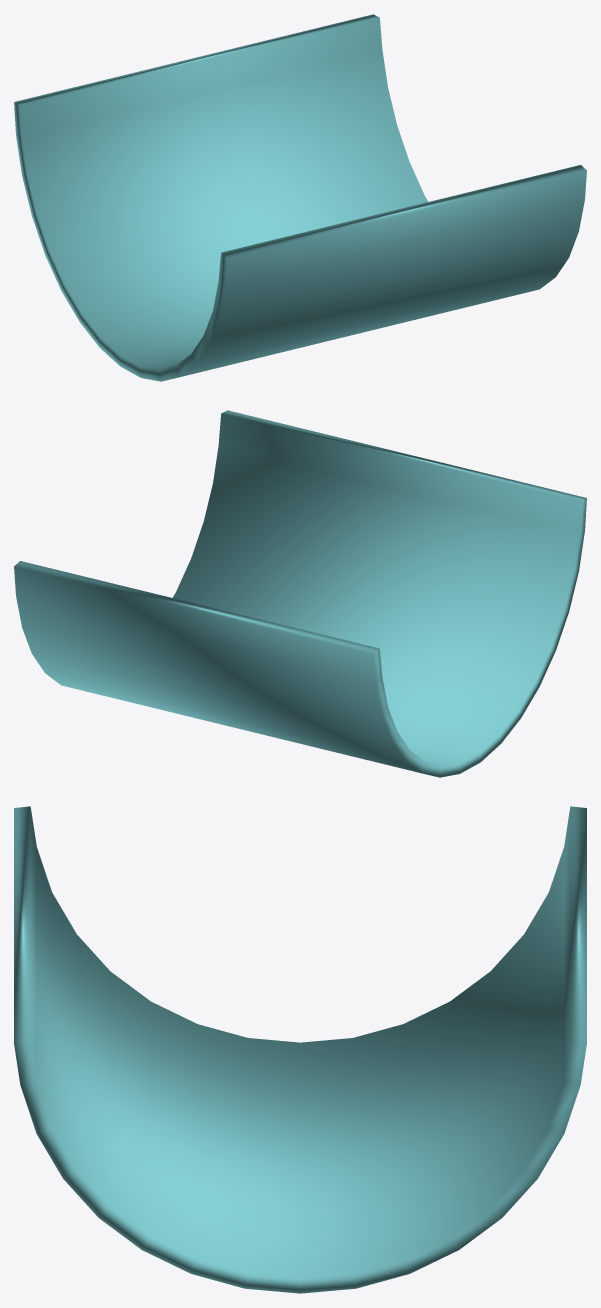
File: BasicSlideMeshForCollider.fbx
The picture shows the model from 3 angles, top to bottom: view 1: azimuth 30°, elevation 25°; view 2: azimuth 150°, elevation 25°; view 3: azimuth 270°, elevation 25°; orthographic projection. The views are drawn at different scales.
Parts seen in each view (by area): view 1: Cylinder; view 2: Cylinder; view 3: Cylinder.
Boxes of the visible parts, x1,y1,x2,y2 form: Cylinder: [14, 14, 586, 381]; Cylinder: [14, 410, 586, 777]; Cylinder: [14, 806, 586, 1293].
Bounding box in the file's own units: 400 × 199 × 411.
